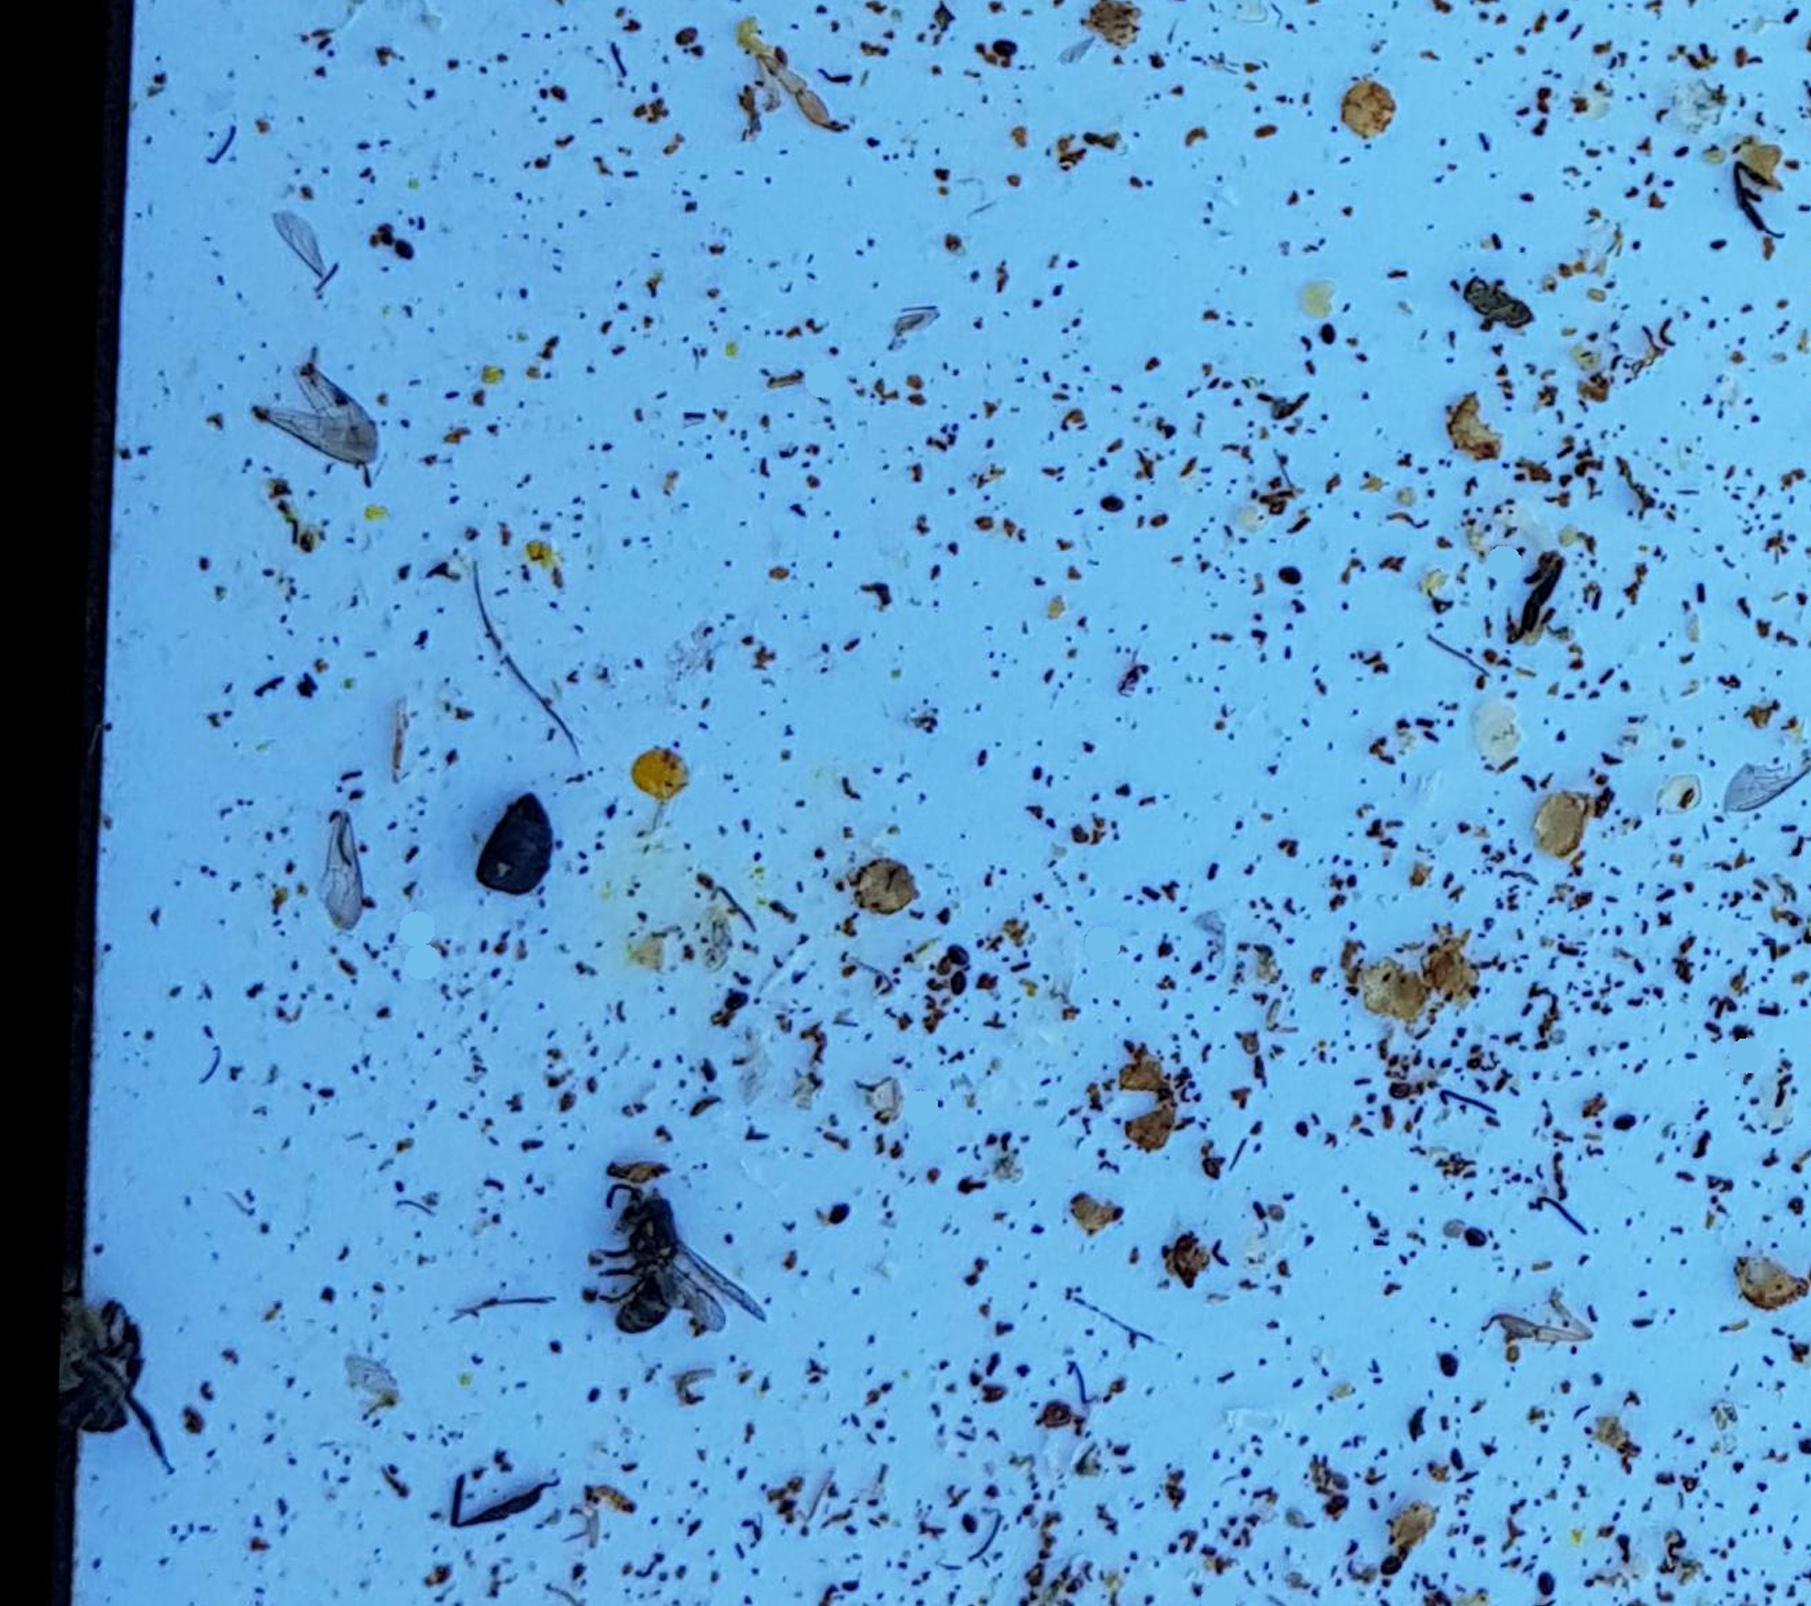Varroa: (937, 935, 978, 977), (713, 980, 755, 1022), (1602, 1099, 1637, 1135), (822, 1194, 853, 1225), (955, 1508, 986, 1539), (989, 34, 1019, 67), (386, 234, 416, 267), (943, 960, 972, 991), (674, 22, 702, 54), (1315, 322, 1344, 352), (1275, 561, 1302, 591), (1530, 1573, 1558, 1601), (1437, 1355, 1465, 1383), (1461, 1225, 1488, 1253), (1101, 491, 1130, 518), (1371, 1553, 1399, 1580), (1383, 1544, 1409, 1567)
